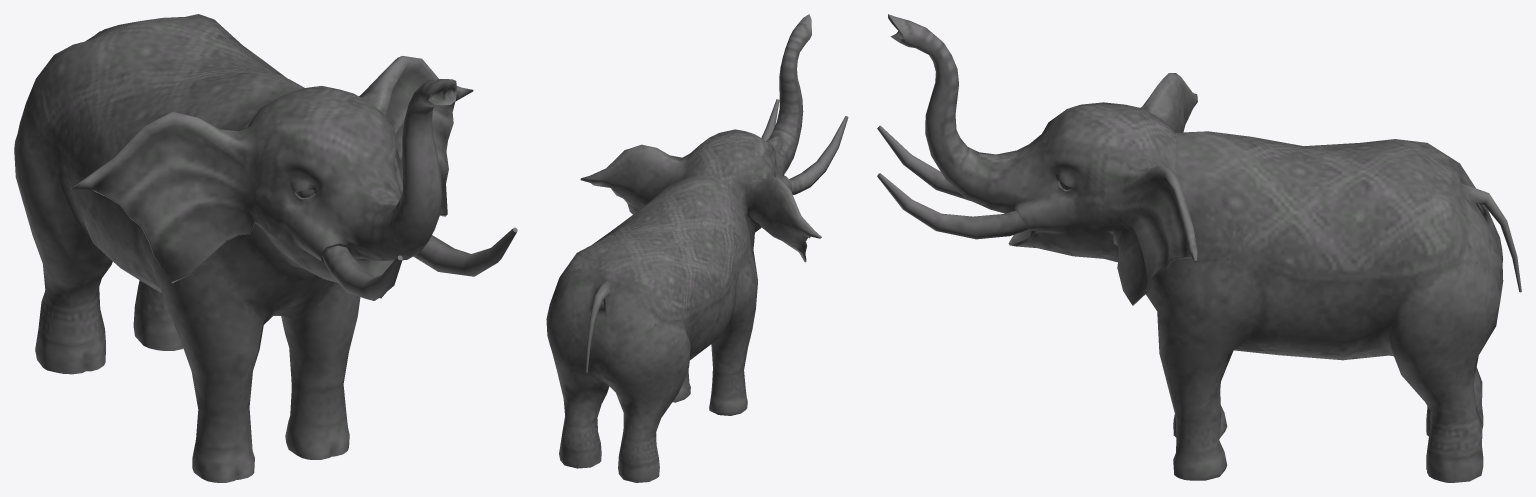
File: elephantFigure01_silver.FBX
3 renders of one model, left to right at view 1: azimuth 30°, elevation 25°; view 2: azimuth 150°, elevation 25°; view 3: azimuth 270°, elevation 25°, orthographic. The views are drawn at different scales.
Visible parts, largest first — view 1: SM_ElephantFigure01; view 2: SM_ElephantFigure01; view 3: SM_ElephantFigure01.
Part boxes in pixels (x1,y1,x2,y2): SM_ElephantFigure01: (14,14,517,482); SM_ElephantFigure01: (546,14,848,482); SM_ElephantFigure01: (877,14,1521,482).
Bounding box in the file's own units: 28.29 × 34.47 × 46.14.
Materials: 1 (1 with a texture image).
